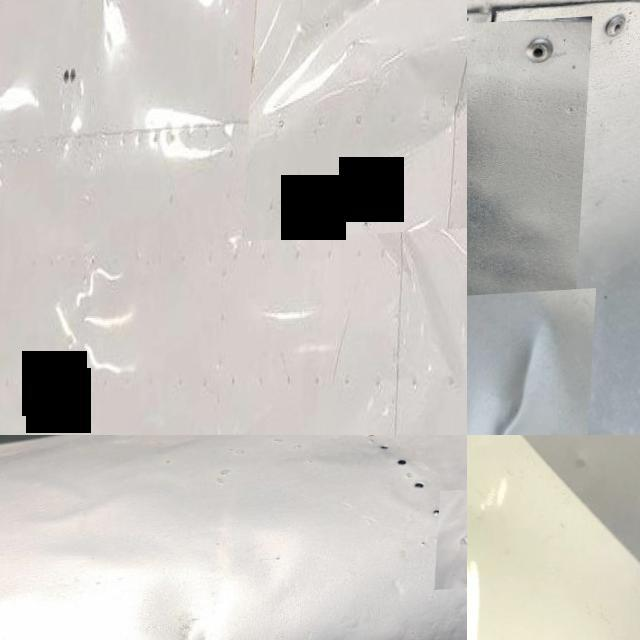Crack: (467, 0, 520, 96)
Dent: (467, 22, 594, 417), (248, 18, 467, 244), (362, 205, 467, 397), (467, 294, 602, 435), (439, 491, 467, 595), (575, 461, 592, 478)
Missing_Fastener: (402, 474, 442, 509), (388, 451, 422, 485), (371, 438, 402, 467)
